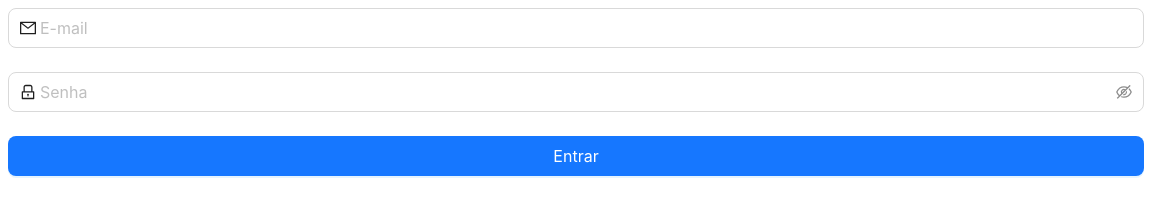
Scenario: LoginForm › should show validation when fields are empty
This screenshot has width=1152, height=197.
Click the button "Entrar" at (576,156), box [8, 136, 1144, 176]
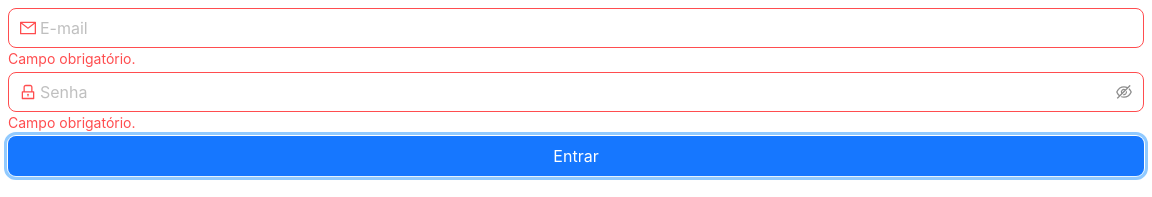
Expected: the text "Campo obrigatório." is shown 2 times, [8, 50, 136, 67]; [8, 114, 136, 131]
